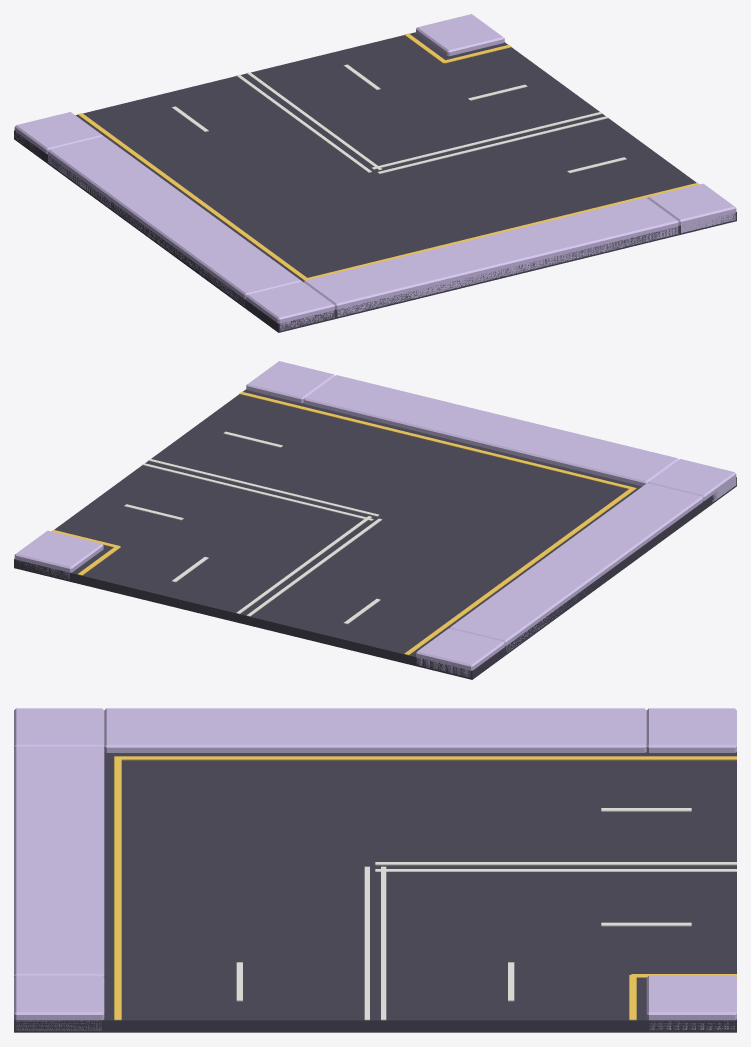
File: road_corner.glb
3 views of the same model, one above another, from view 1: azimuth 30°, elevation 25°; view 2: azimuth 150°, elevation 25°; view 3: azimuth 270°, elevation 25° (orthographic). The views are drawn at different scales.
Visible parts, largest first — view 1: road_corner; view 2: road_corner; view 3: road_corner.
Boxes of the visible parts, x1=… form: road_corner: x1=14, y1=14, x2=736, y2=332; road_corner: x1=14, y1=361, x2=736, y2=679; road_corner: x1=14, y1=708, x2=736, y2=1032.
Size of the model in its own units: 16 by 0.48 by 16.
